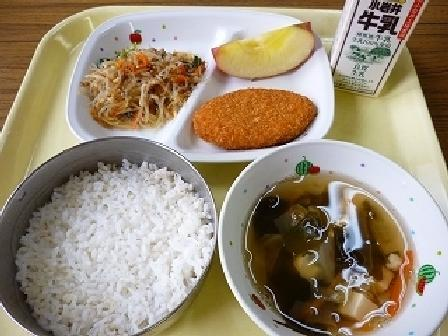Apple: (206, 13, 324, 82)
Milk: (323, 0, 439, 97)
Rice: (10, 147, 210, 335)
Soups: (222, 145, 447, 329)
cutlet: (188, 79, 322, 154)
salad with sauce: (82, 40, 197, 117)
